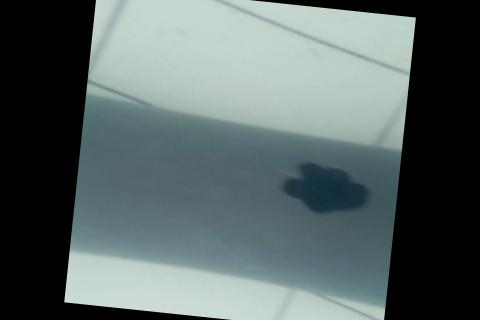kebocoran: (276, 157, 375, 221)
